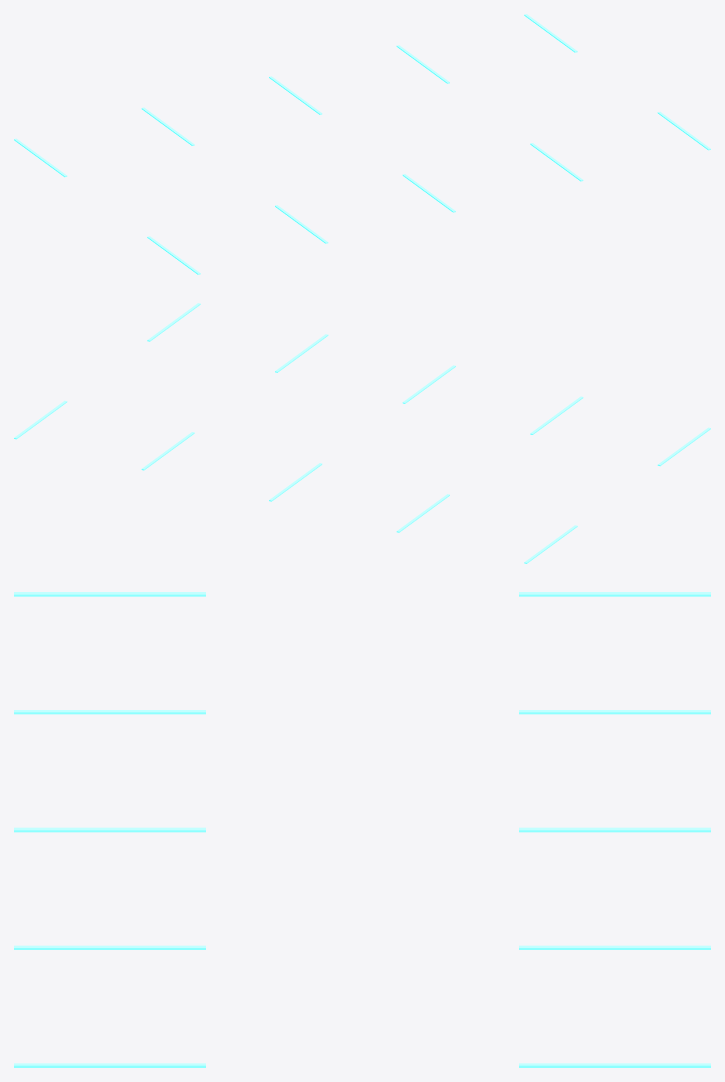
The model's file is Strip_Lights.glb.
3 views of the same model, one above another, from view 1: azimuth 30°, elevation 25°; view 2: azimuth 150°, elevation 25°; view 3: azimuth 270°, elevation 25° (orthographic). The views are drawn at different scales.
Visible parts, largest first — view 1: Strip Lights.004, Strip Lights.005; view 2: Strip Lights.004, Strip Lights.005; view 3: Strip Lights.004, Strip Lights.005.
Part boxes in pixels (x1,y1,x2,y2): Strip Lights.004: [147, 111, 710, 274]; Strip Lights.005: [14, 14, 577, 177]; Strip Lights.004: [147, 303, 710, 466]; Strip Lights.005: [14, 400, 577, 563]; Strip Lights.004: [14, 592, 205, 1067]; Strip Lights.005: [519, 592, 710, 1067].
Size of the model in its own units: 40.2 by 0.08 by 25.
